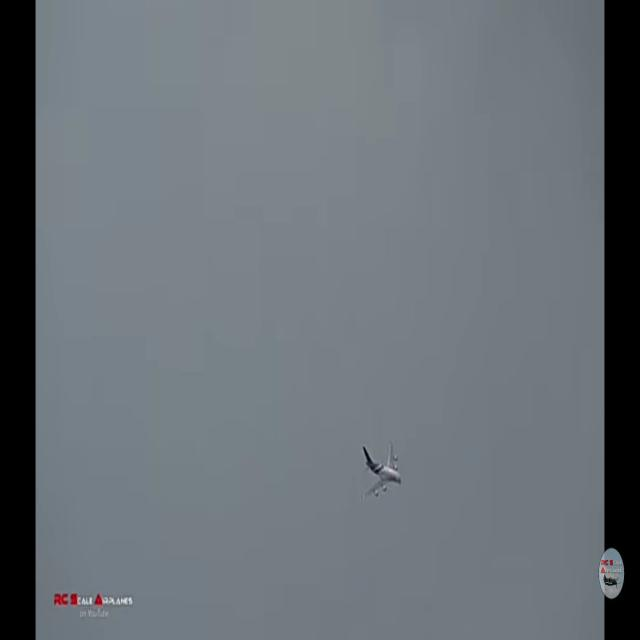iha: (361, 467, 403, 473)
